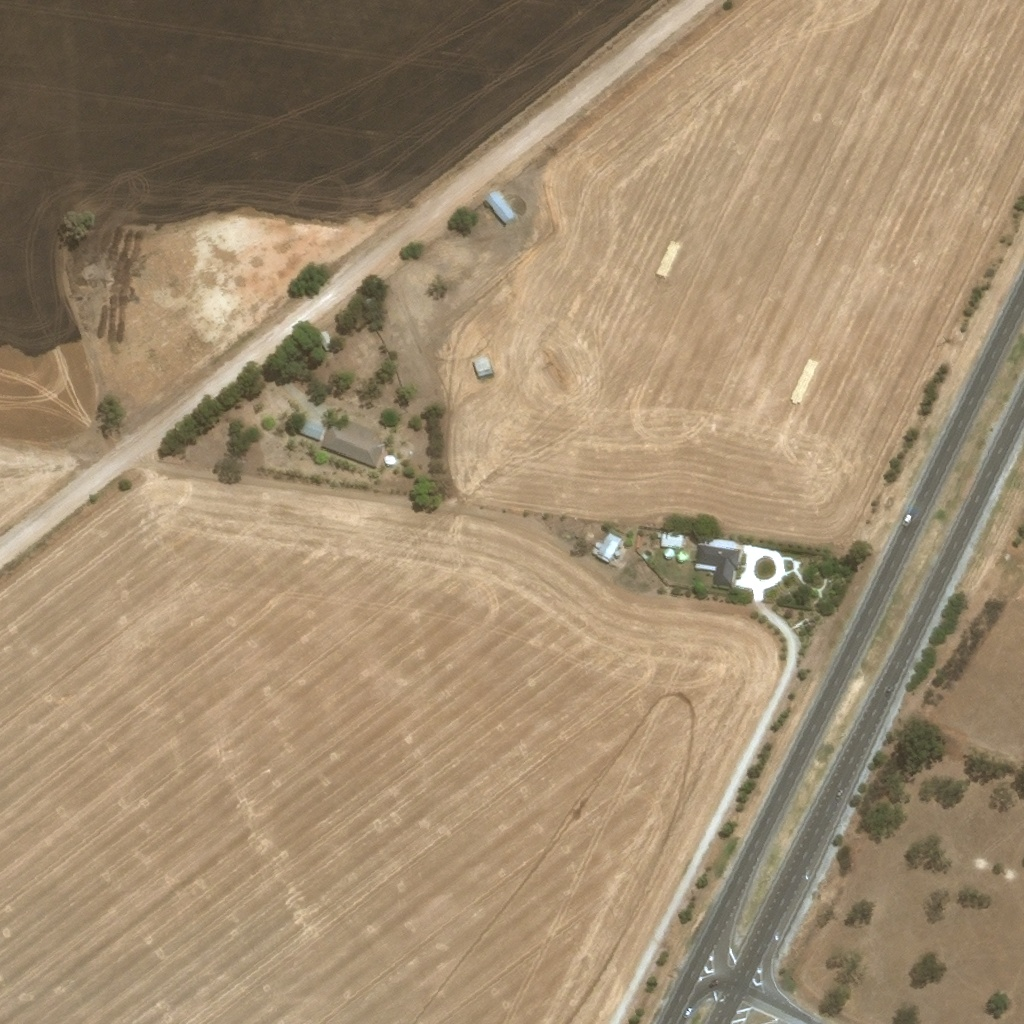0 no-damage: (321, 421, 386, 468), (694, 543, 742, 585), (485, 190, 516, 226), (592, 532, 623, 562), (298, 418, 325, 440), (473, 355, 493, 377), (316, 330, 333, 349), (662, 531, 683, 546), (676, 550, 689, 562), (384, 455, 396, 466), (664, 547, 675, 559)
